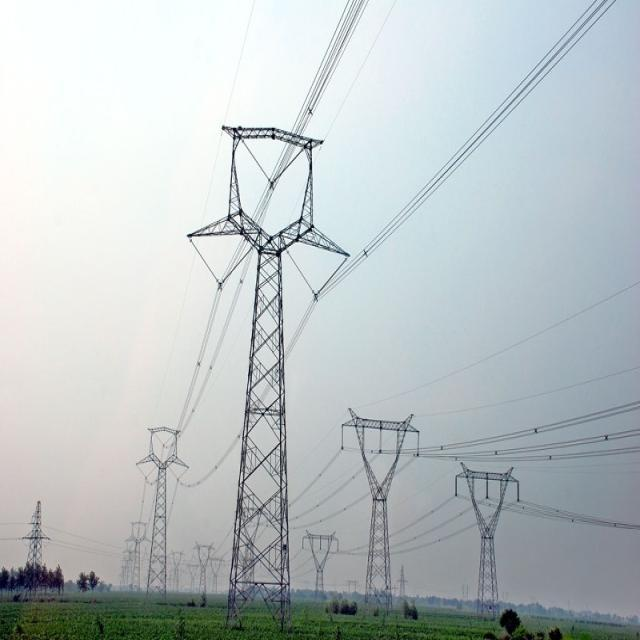non-critical vegetation: (198, 102, 328, 614), (332, 393, 426, 611), (442, 446, 536, 612), (136, 413, 178, 591), (300, 519, 342, 603), (22, 496, 46, 594)
